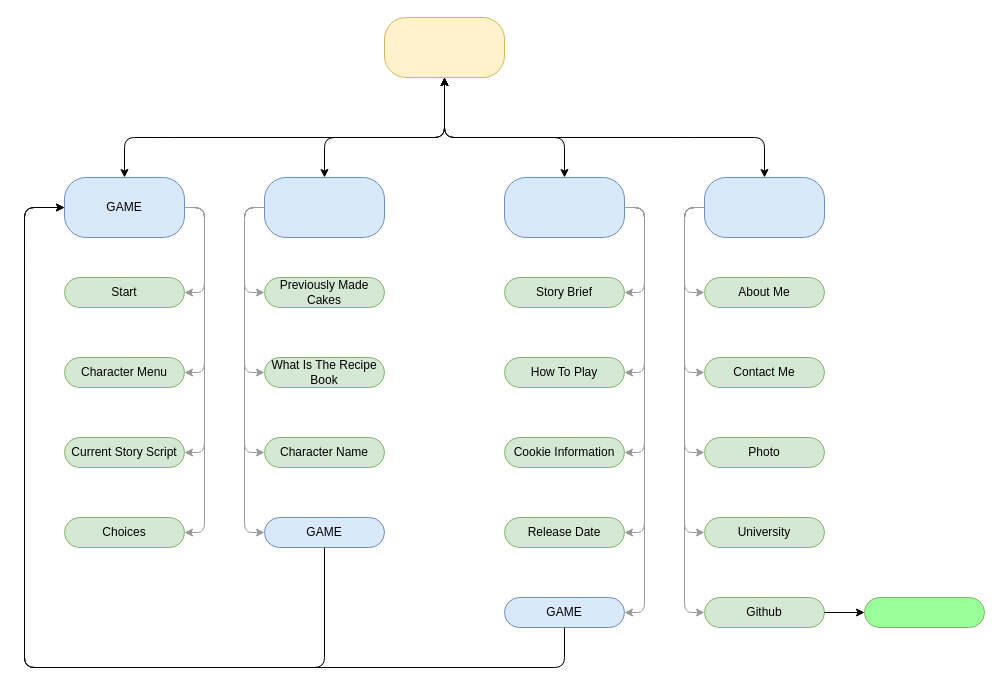
The diagram is 1002 pixels wide and 693 high, and some of its shapes have lost their labels. The box of each missing label's shape, as (x1, y1, x2, y2) in pixels:
ABOUT: (504, 176, 624, 238)
AUTHOR: (704, 176, 824, 238)
Github Home: (864, 596, 984, 628)
INDEX: (384, 16, 504, 78)
RECIPE BOOK: (264, 176, 384, 238)
